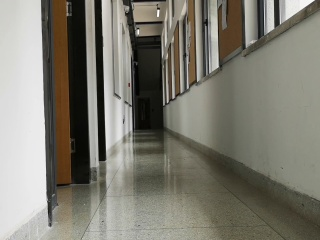room: (39, 1, 93, 216)
